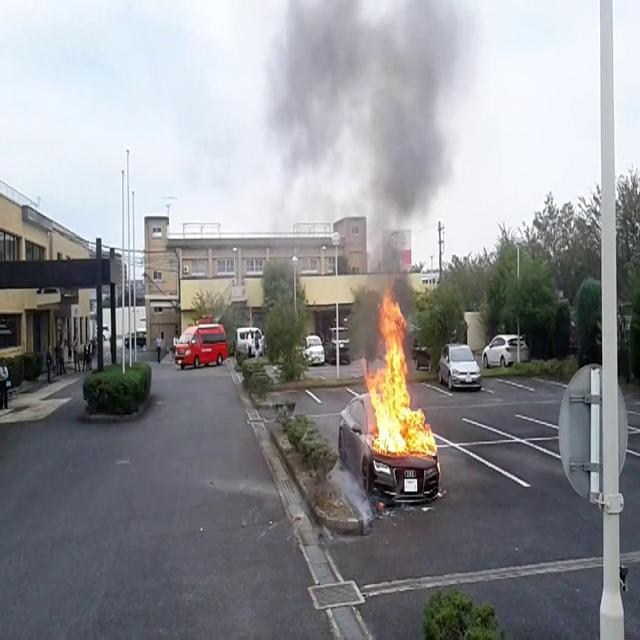Fire: (362, 289, 436, 463)
Smoke: (254, 0, 446, 286)
